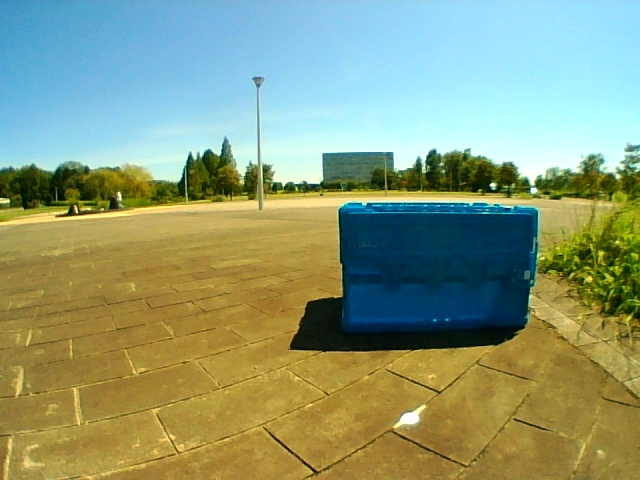blue_box: (341, 204, 526, 324)
